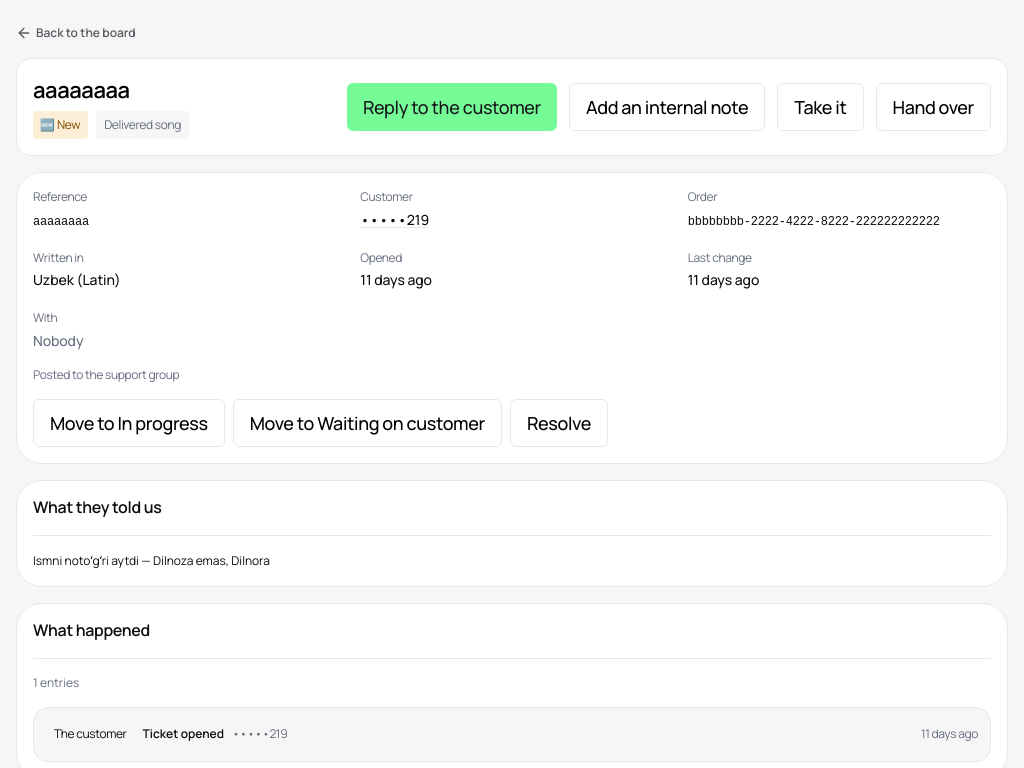
Test: SupportTicketScreen — the moves on offer › reports a 409 as the status the server found, and does not retry it
The image size is (1024, 768).
Click the button "Move to In progress": (129, 423) [33,399,225,447]
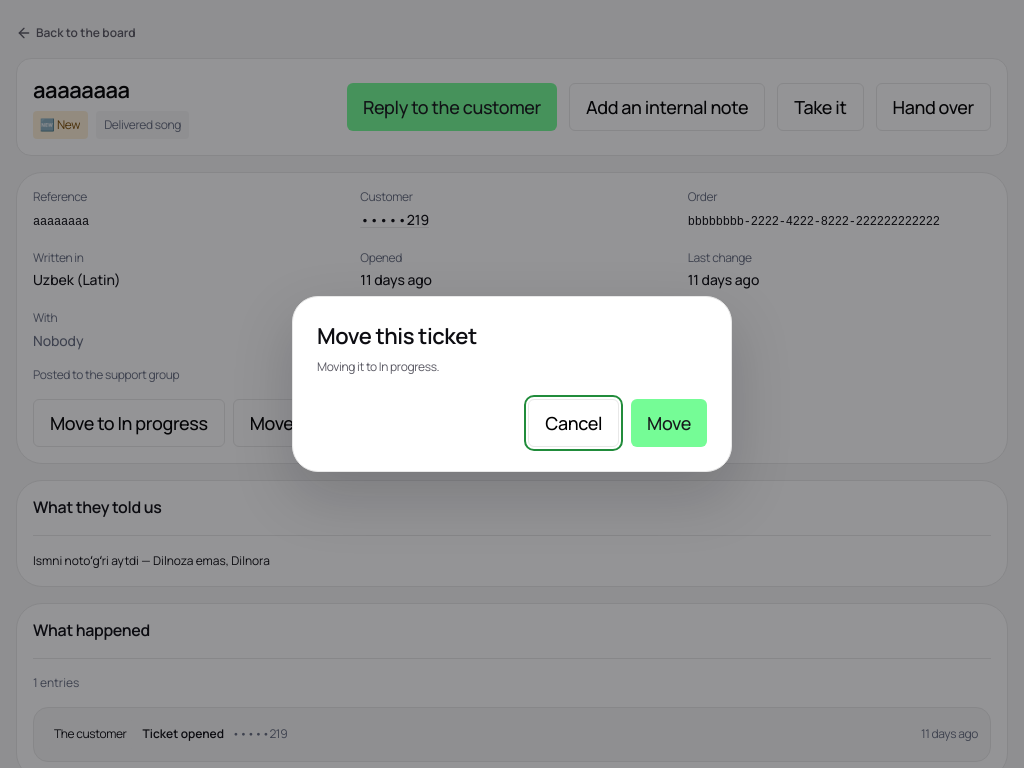
Click the button "Move": (669, 423) [631,399,707,447]
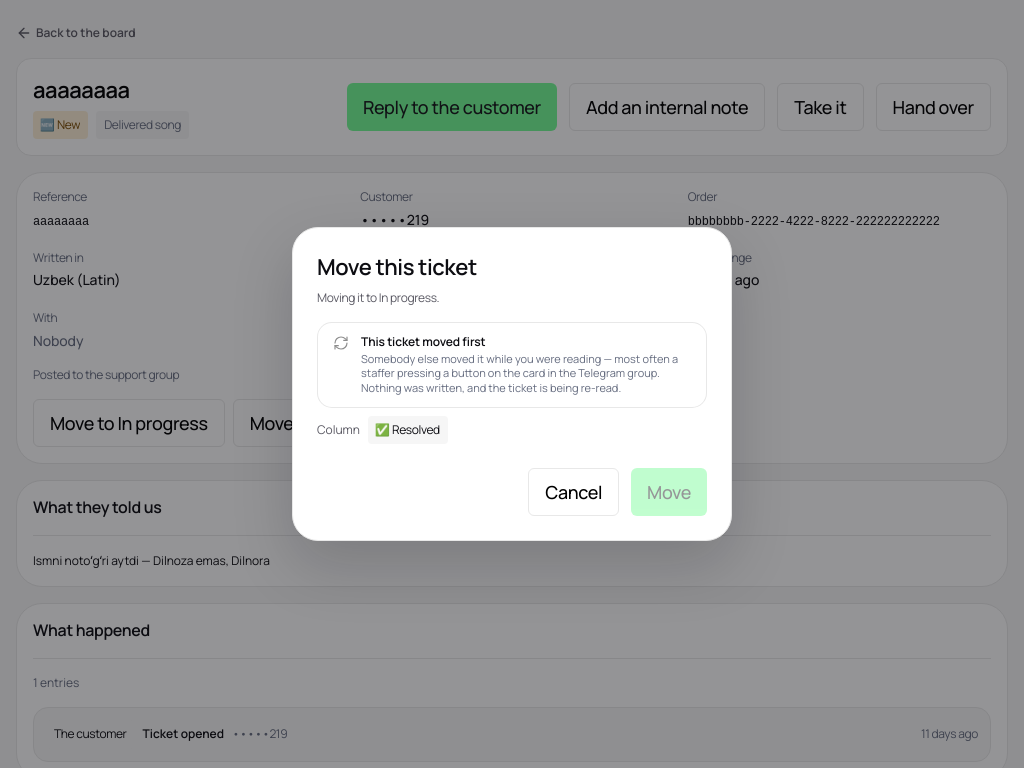
Expected: the text "This ticket moved first" is shown, [361,333,486,350]
Expected: the text "Resolved" is shown, [392,422,440,438]
Expected: the button "Move" is disabled, [631,468,707,516]
